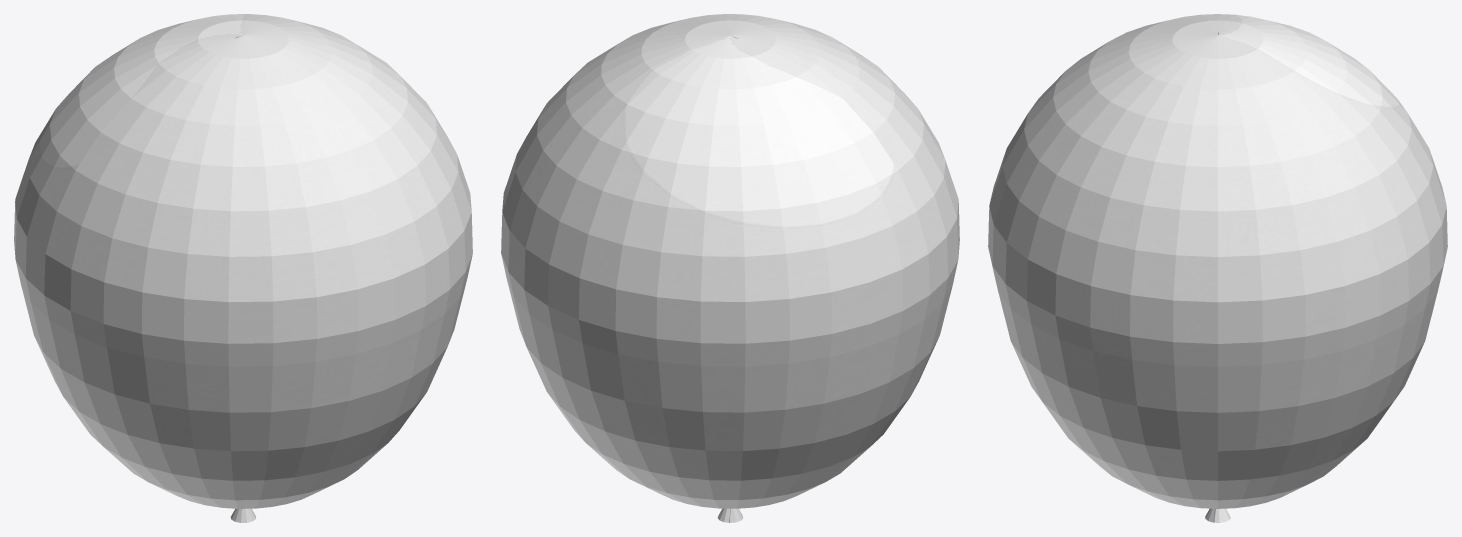
File: globo2.obj
3 views of the same model, side by side, from view 1: azimuth 30°, elevation 25°; view 2: azimuth 150°, elevation 25°; view 3: azimuth 270°, elevation 25° (orthographic).
Parts seen in each view (by area): view 1: globoRoto1; view 2: globoRoto1; view 3: globoRoto1.
Part boxes in pixels (x1,y1,x2,y2): globoRoto1: (14,14,472,522); globoRoto1: (501,14,959,522); globoRoto1: (988,14,1447,522).
Bounding box in the file's own units: 1.2 × 1.39 × 1.2.
Materials: 1 (1 with a texture image).
